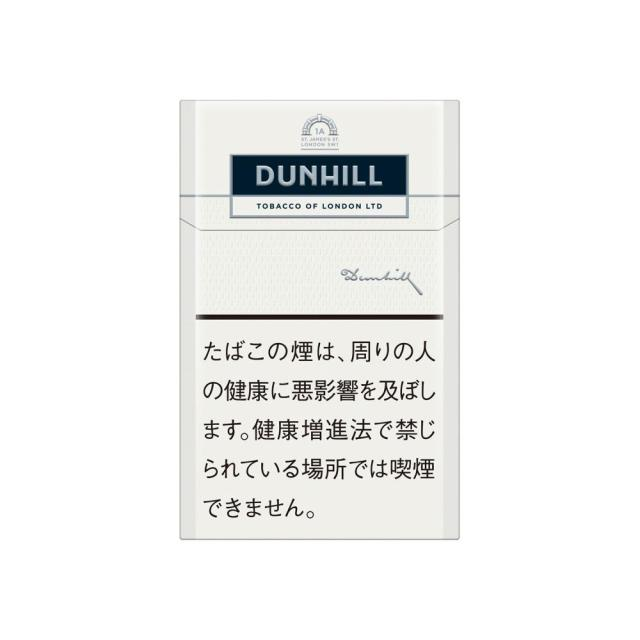dunhill: (168, 114, 469, 543)
